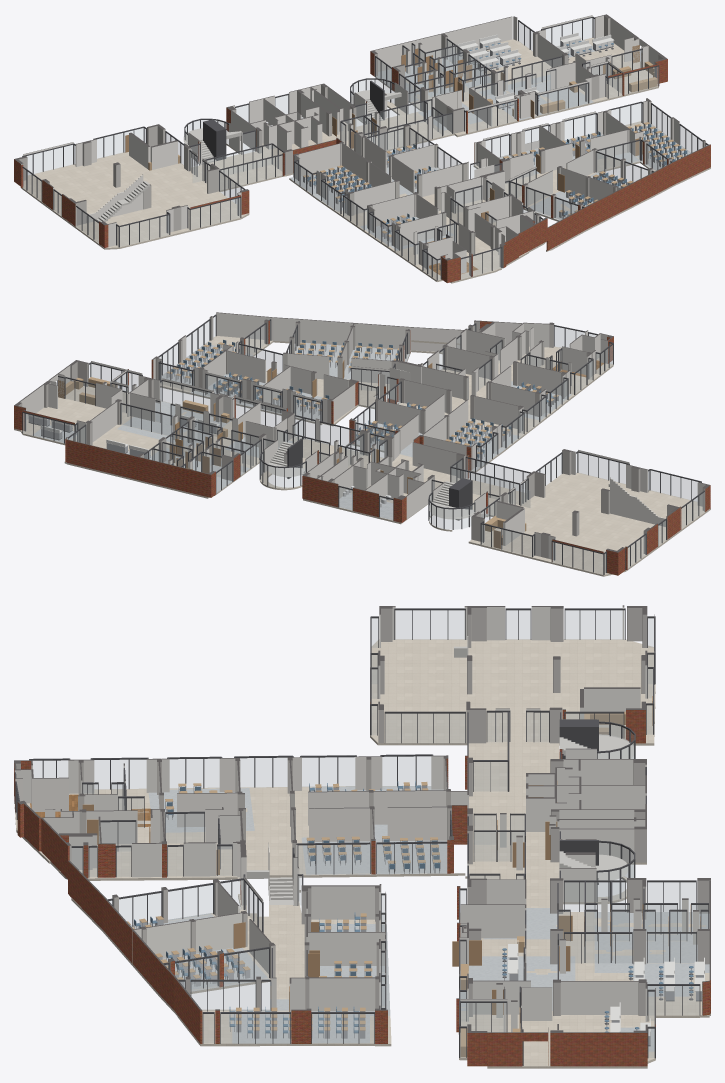
Rendered from floor-2.glb.
3 renders of one model, top to bottom at view 1: azimuth 30°, elevation 25°; view 2: azimuth 150°, elevation 25°; view 3: azimuth 270°, elevation 25°, orthographic. The views are drawn at different scales.
Visible parts, largest first — view 1: P2_B_Walls, P2_A_Glass, P2_A_Walls, P2_A_Floor_Slab, P2_B_Glass, P2_A_Columns, P2_A_Glass_Mullions, P2_B_Columns, P2_B_Floor_Slab, P2_B_Glass_Mullions, P2_B_Floor_Zones, P2_A_Glass_Frames_Top (+12 smaller); view 2: P2_B_Walls, P2_A_Glass, P2_A_Walls, P2_A_Floor_Slab, P2_B_Glass, P2_A_Columns, P2_A_Glass_Mullions, P2_B_Columns, P2_B_Floor_Zones, P2_B_Floor_Slab, P2_B_Glass_Mullions, P2_A_Glass_Frames_Top (+13 smaller); view 3: P2_B_Walls, P2_A_Floor_Slab, P2_A_Walls, P2_B_Glass, P2_A_Glass, P2_B_Floor_Slab, P2_A_Columns, P2_B_Floor_Zones, P2_A_Floor_Zones, P2_B_Columns, P2_A_Glass_Mullions, P2_A_Glass_Frames_Top (+14 smaller).
Boxes of the visible parts, left/top/right/bottom form: P2_B_Walls: left=295, top=98, right=710, bottom=281; P2_A_Glass: left=23, top=18, right=657, bottom=246; P2_A_Walls: left=20, top=15, right=660, bottom=246; P2_A_Floor_Slab: left=21, top=37, right=658, bottom=249; P2_B_Glass: left=295, top=103, right=706, bottom=279; P2_A_Columns: left=14, top=14, right=667, bottom=247; P2_A_Glass_Mullions: left=22, top=18, right=659, bottom=247; P2_B_Columns: left=293, top=100, right=705, bottom=282; P2_B_Floor_Slab: left=289, top=121, right=710, bottom=283; P2_B_Glass_Mullions: left=294, top=103, right=706, bottom=280; P2_B_Floor_Zones: left=289, top=125, right=690, bottom=275; P2_A_Glass_Frames_Top: left=22, top=16, right=658, bottom=226; P2_B_Walls: left=151, top=312, right=611, bottom=468; P2_A_Glass: left=23, top=364, right=704, bottom=574; P2_A_Walls: left=17, top=361, right=706, bottom=569; P2_A_Floor_Slab: left=14, top=386, right=710, bottom=576; P2_B_Glass: left=159, top=316, right=612, bottom=466; P2_A_Columns: left=14, top=360, right=710, bottom=575; P2_A_Glass_Mullions: left=22, top=364, right=701, bottom=574; P2_B_Columns: left=154, top=316, right=613, bottom=470; P2_B_Floor_Zones: left=161, top=342, right=603, bottom=471; P2_B_Floor_Slab: left=160, top=336, right=613, bottom=472; P2_B_Glass_Mullions: left=158, top=314, right=613, bottom=467; P2_A_Glass_Frames_Top: left=23, top=362, right=704, bottom=554; P2_B_Walls: left=14, top=755, right=450, bottom=1043; P2_A_Floor_Slab: left=370, top=639, right=710, bottom=1068; P2_A_Walls: left=370, top=605, right=710, bottom=1066; P2_B_Glass: left=16, top=756, right=446, bottom=1043; P2_A_Glass: left=371, top=610, right=708, bottom=1057; P2_B_Floor_Slab: left=14, top=786, right=465, bottom=1046; P2_A_Columns: left=378, top=606, right=710, bottom=1066; P2_B_Floor_Zones: left=30, top=786, right=447, bottom=1043; P2_A_Floor_Zones: left=460, top=908, right=709, bottom=1051; P2_B_Columns: left=14, top=755, right=453, bottom=1043; P2_A_Glass_Mullions: left=370, top=608, right=708, bottom=1065; P2_A_Glass_Frames_Top: left=370, top=608, right=708, bottom=1032.
Size of the model in its own units: 77.18 by 5.59 by 53.15.
18 materials, 5 textured.
